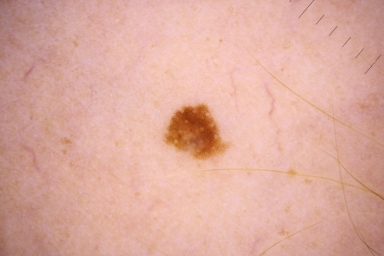nevus: (168, 102, 229, 157)
